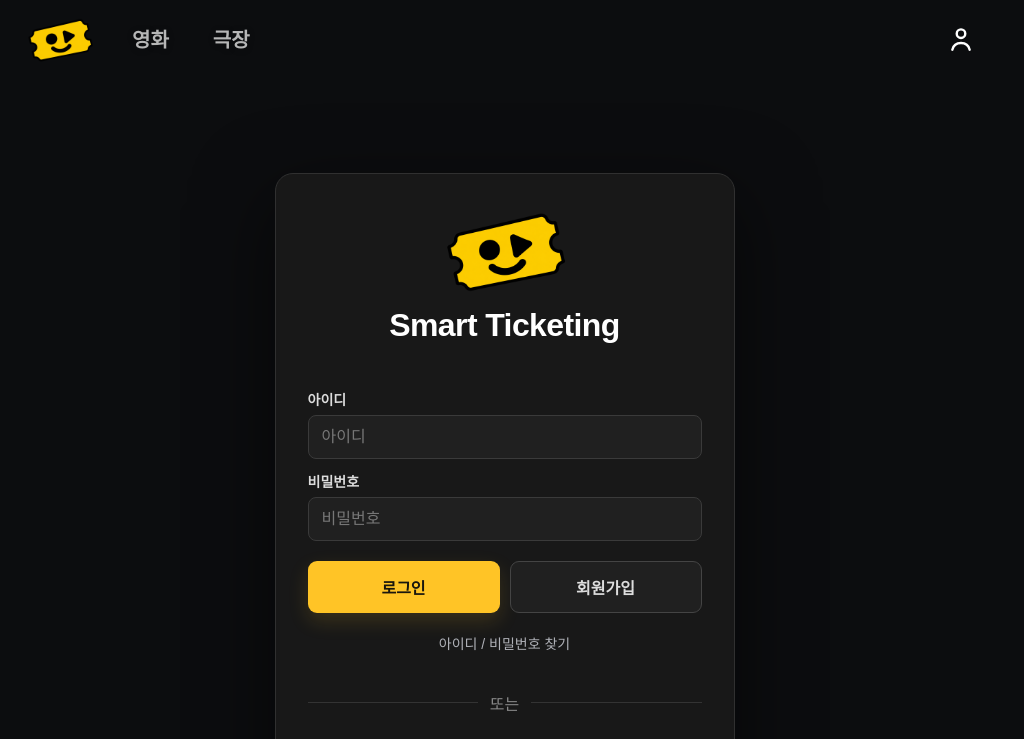
Test: normal login retrieves the member and opens home
This screenshot has width=1024, height=739.
Step 1. Type "tester" into the field labelled "아이디" → (504, 437), box x1=308 y1=415 x2=702 y2=459
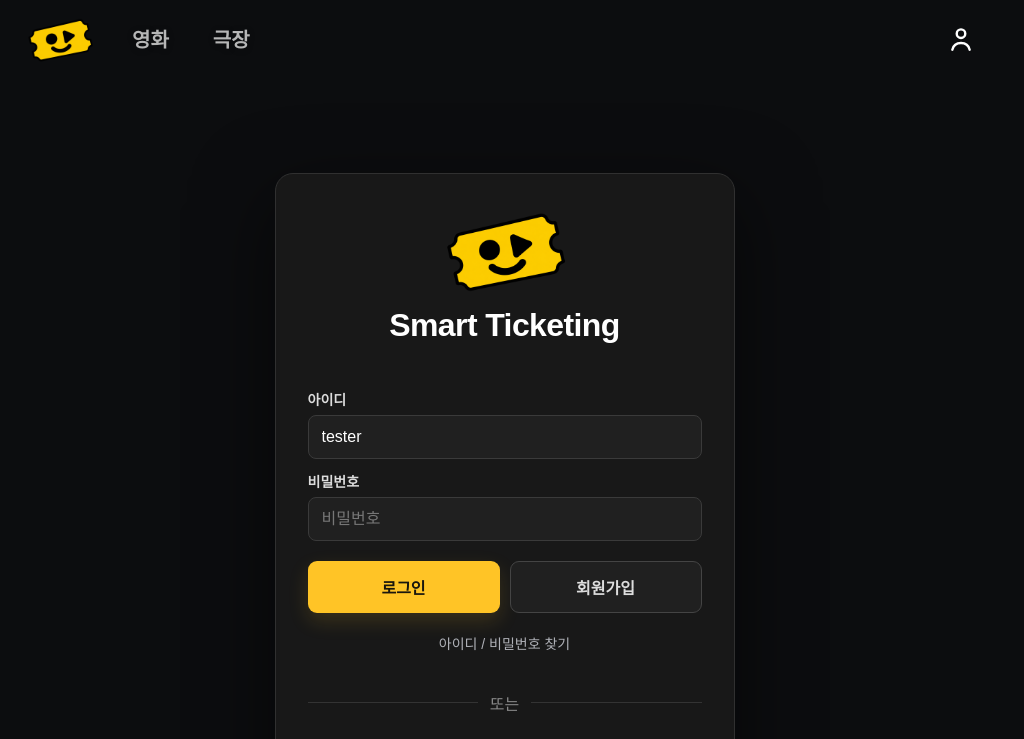
Step 2. Type "password123" into the password field labelled "비밀번호" → (504, 519), box x1=308 y1=497 x2=702 y2=541
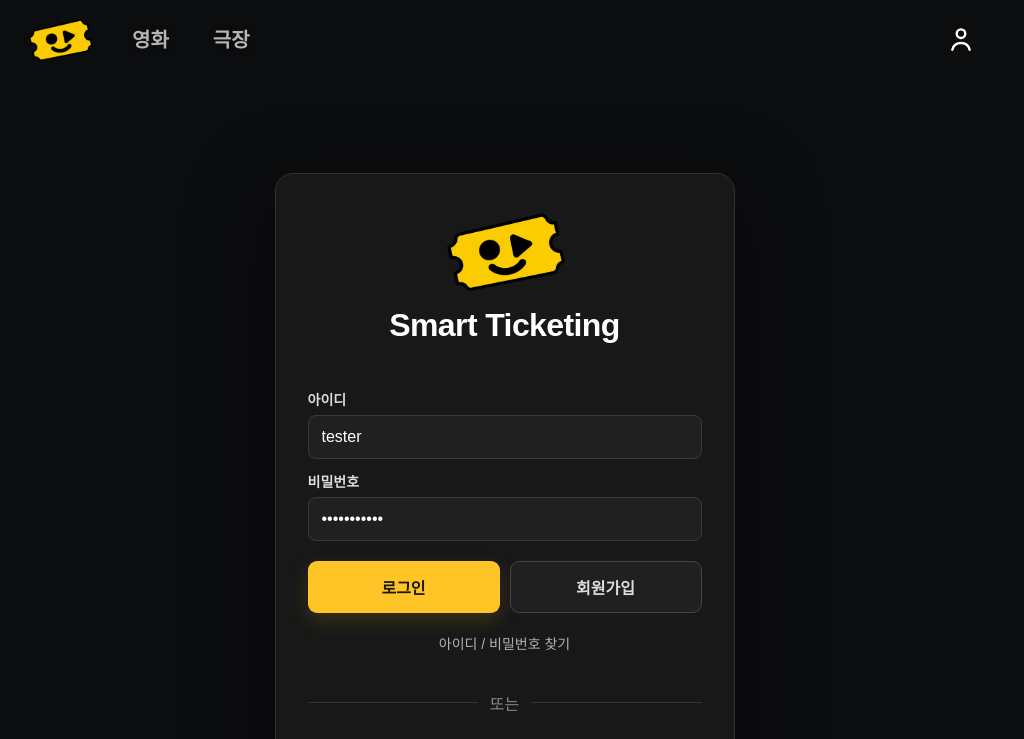
Step 3. Click the button "로그인" → (404, 587), box x1=308 y1=561 x2=500 y2=613
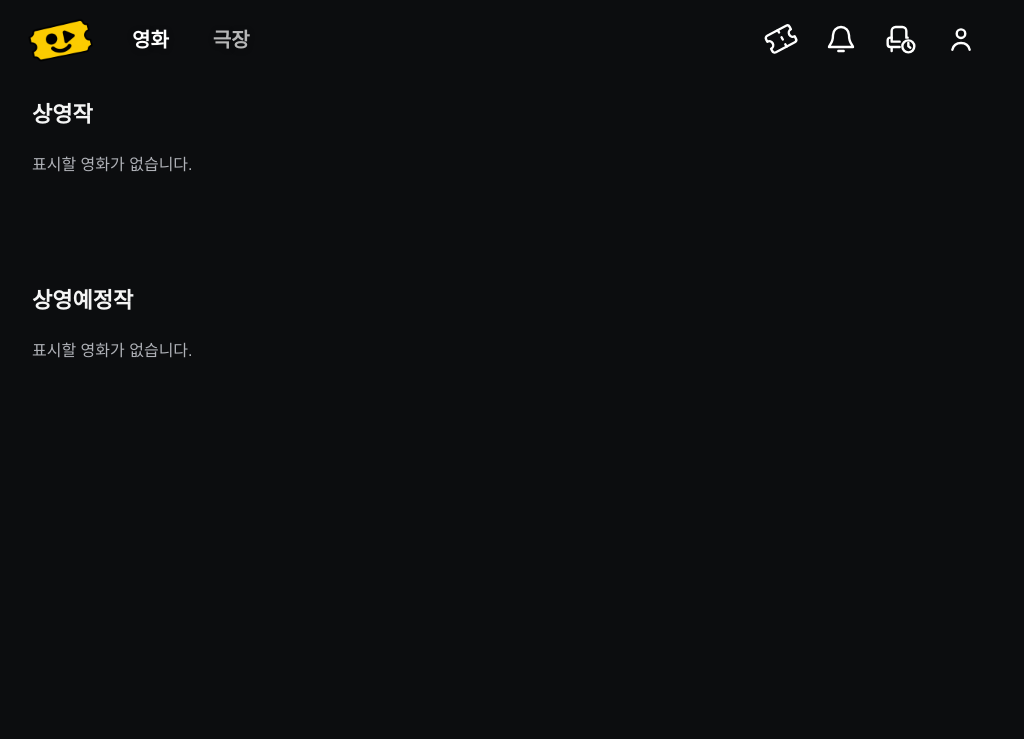
Check: the heading "상영작" is shown, box x1=32 y1=102 x2=93 y2=127
